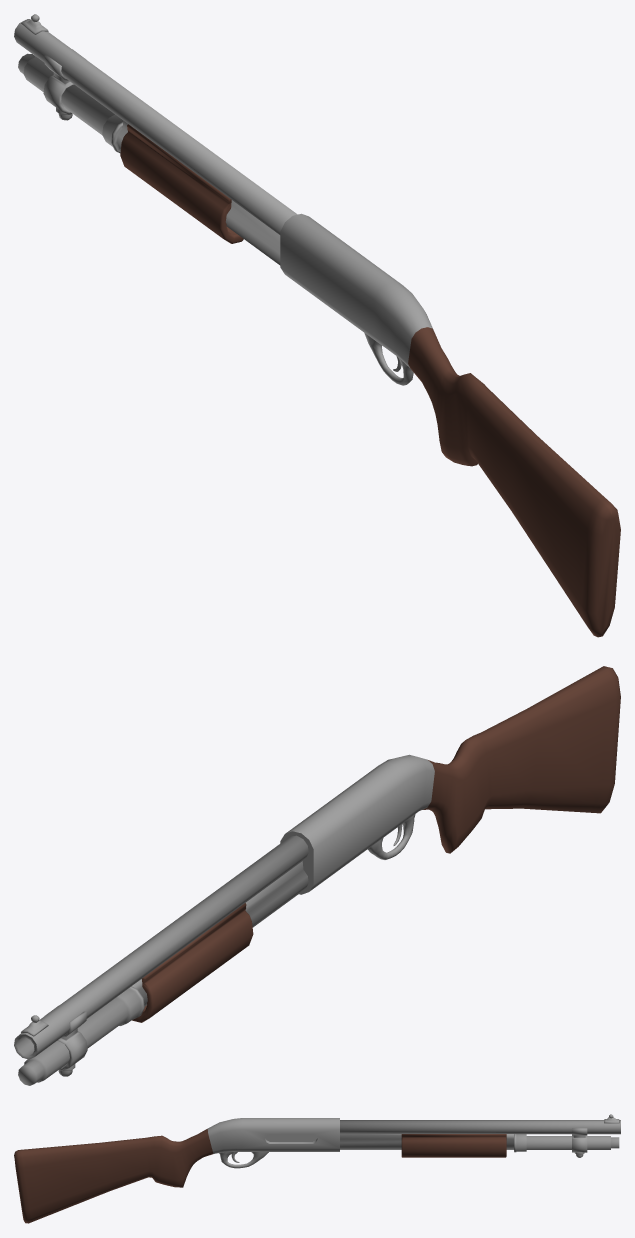
File: shotgun.fbx
The picture shows the model from 3 angles, top to bottom: view 1: azimuth 30°, elevation 25°; view 2: azimuth 150°, elevation 25°; view 3: azimuth 270°, elevation 25°; orthographic projection. The views are drawn at different scales.
Visible parts, largest first — view 1: shotgun; view 2: shotgun; view 3: shotgun.
Part boxes in pixels (box(x1,y1,x2,y2)): shotgun: box(14, 14, 620, 637); shotgun: box(14, 666, 620, 1085); shotgun: box(14, 1114, 620, 1223).
Bounding box in the file's own units: 0.1496 × 0.8882 × 4.53.
